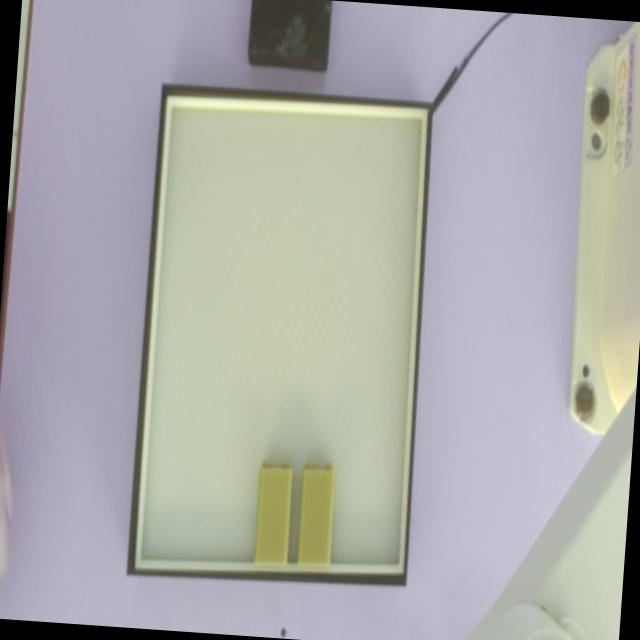bateria: (255, 462, 291, 565), (296, 460, 332, 562)
mesa: (126, 83, 433, 586)
